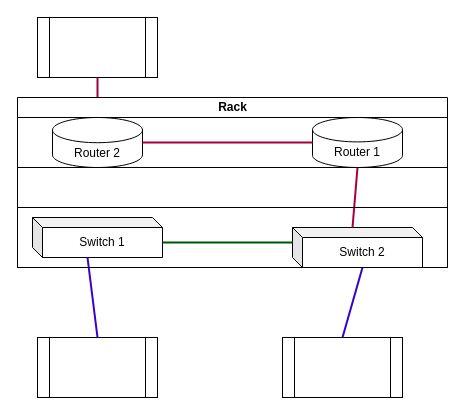
Image size: 465x415. Some labels were removed from this diagram. Each missing label, with the box of its shape:
Lubuntu 1: (36, 336, 158, 398)
Lubuntu 2: (36, 16, 158, 78)
Lubuntu 3: (282, 336, 402, 398)
